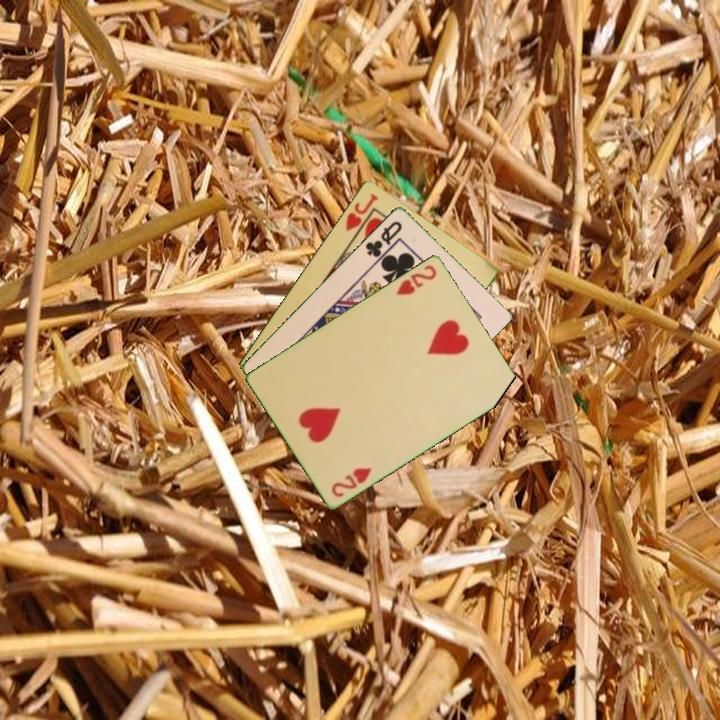2h: (392, 261, 440, 298), (328, 464, 375, 500)
Jh: (342, 189, 381, 234)
Qc: (362, 217, 405, 265)
